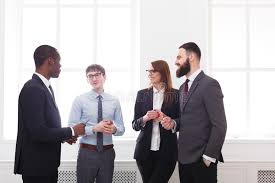F_M_suit jacket: (9, 73, 63, 168), (180, 71, 223, 169)
F_W_suit jacket: (132, 85, 181, 153)
F_belt: (79, 140, 119, 153)
F_shirt: (70, 84, 127, 146)
F_tie: (91, 93, 106, 149)
